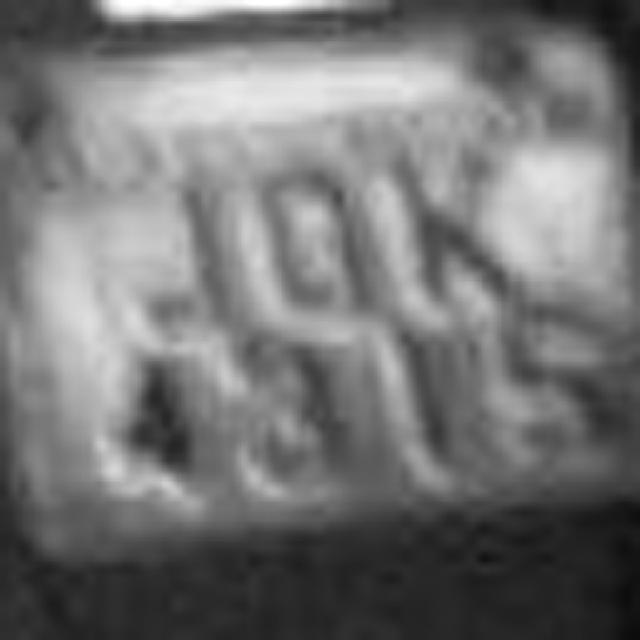1: (364, 316, 504, 484)
3: (204, 312, 396, 496)
4: (88, 320, 240, 500)
5: (480, 296, 615, 476)
K: (385, 140, 540, 315)
P: (80, 160, 220, 332)
